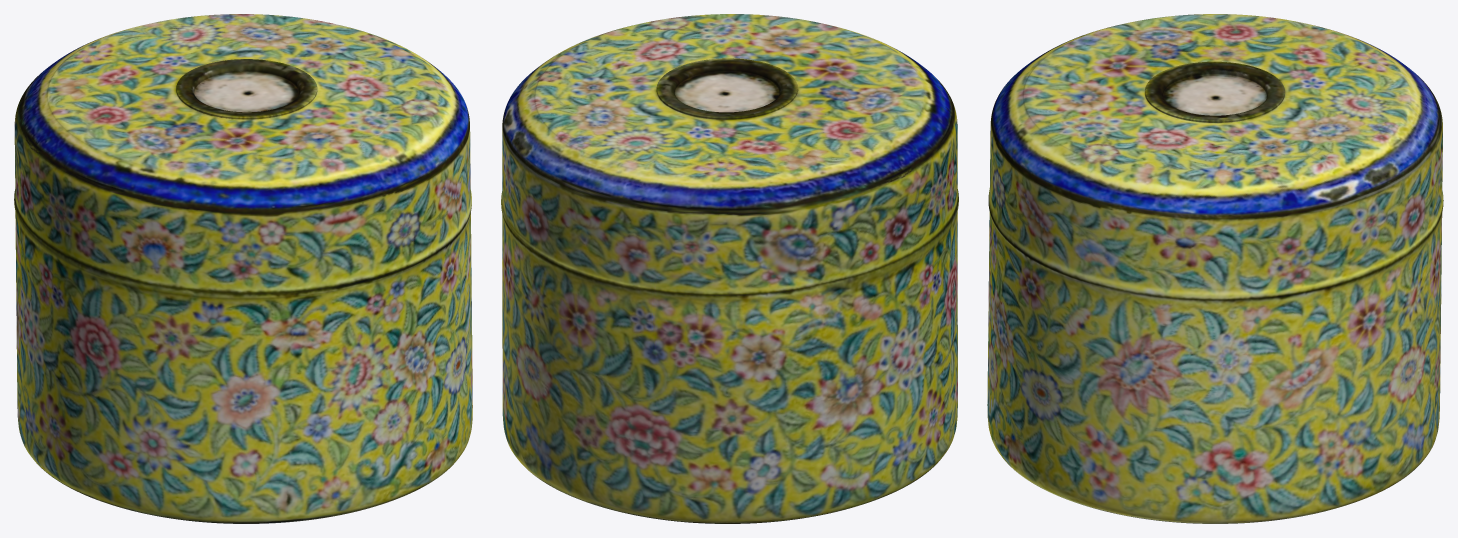
Rendered from Hộp pháp lam thời Minh Mạng.glb.
3 renders of one model, left to right at view 1: azimuth 30°, elevation 25°; view 2: azimuth 150°, elevation 25°; view 3: azimuth 270°, elevation 25°, orthographic.
Visible parts, largest first — view 1: Hộp pháp lam thời Minh Mạng; view 2: Hộp pháp lam thời Minh Mạng; view 3: Hộp pháp lam thời Minh Mạng.
Part boxes in pixels (bbox=[...]): Hộp pháp lam thời Minh Mạng: bbox=[14, 14, 472, 523]; Hộp pháp lam thời Minh Mạng: bbox=[501, 14, 958, 523]; Hộp pháp lam thời Minh Mạng: bbox=[987, 14, 1443, 523].
Bounding box in the file's own units: 22.33 × 18.61 × 22.38.
Materials: 1 (1 with a texture image).
